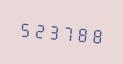eight: (74, 21, 87, 46), (88, 22, 101, 47)
five: (17, 16, 30, 41)
seven: (60, 19, 73, 44)
three: (46, 18, 59, 43)
two: (31, 17, 44, 42)
